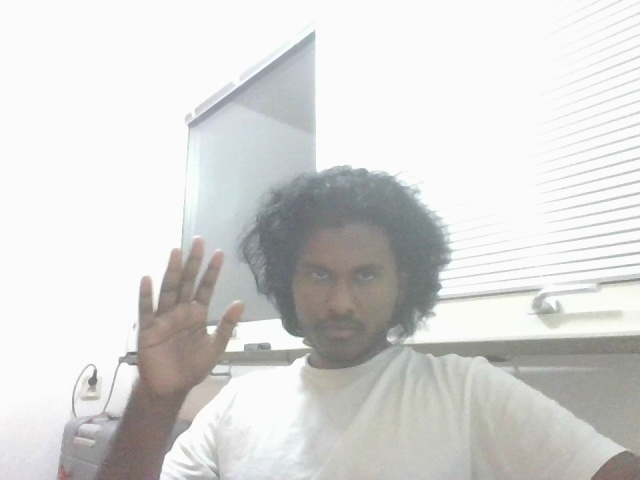hello: (133, 235, 248, 402)
